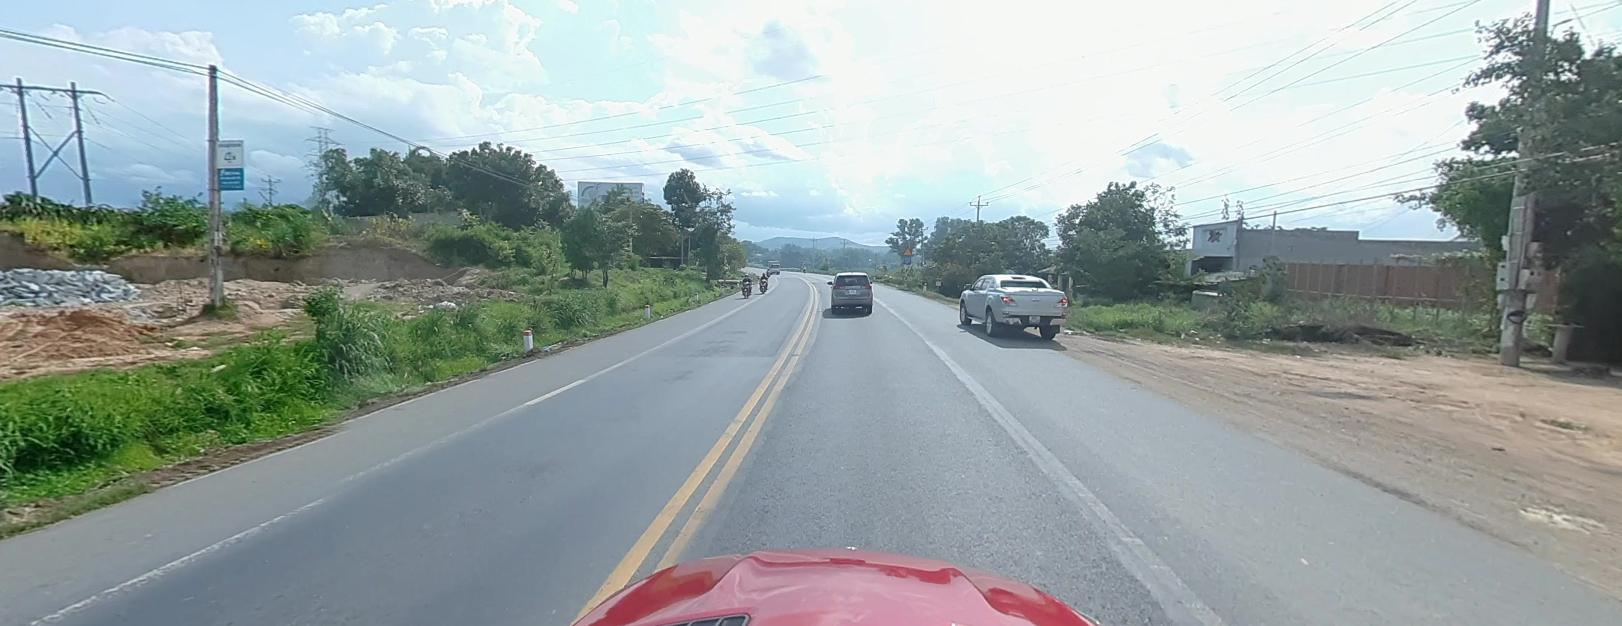Nguy hiem: (903, 246, 912, 254)
